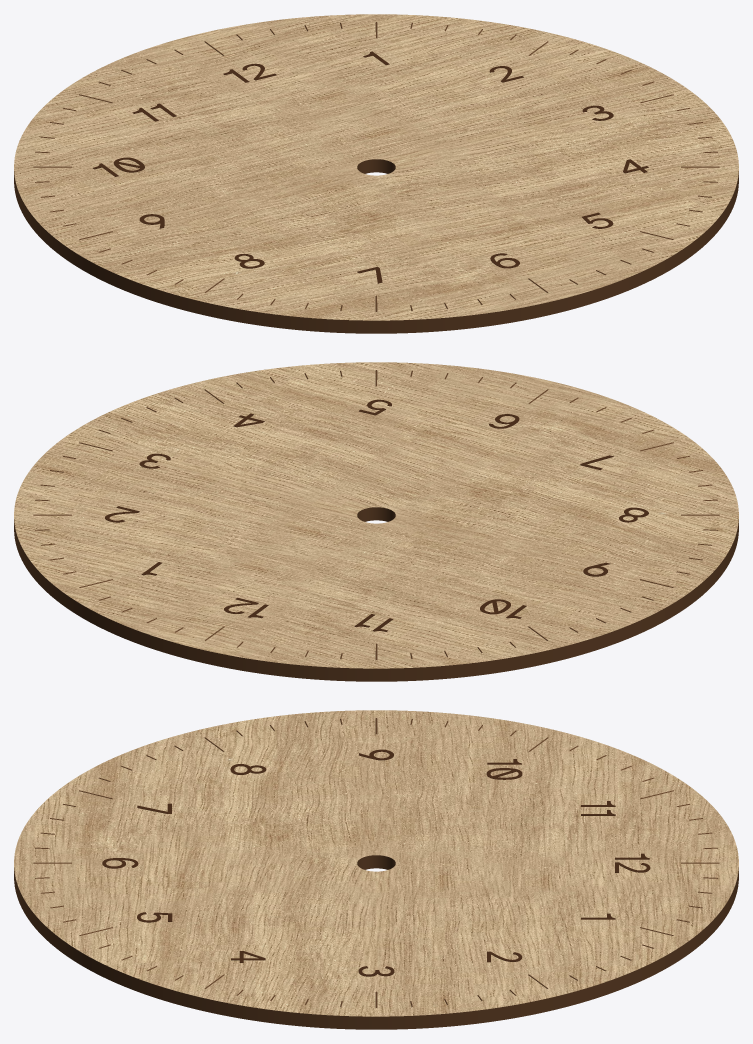
The model's file is clock-face.glb.
The picture shows the model from 3 angles, top to bottom: view 1: azimuth 30°, elevation 25°; view 2: azimuth 150°, elevation 25°; view 3: azimuth 270°, elevation 25°; orthographic projection.
Visible parts, largest first — view 1: body0, engrave0, score0; view 2: body0, engrave0, score0; view 3: body0, engrave0, score0.
Boxes of the visible parts, x1,y1,x2,y2 form: body0: (14, 14, 738, 333); engrave0: (93, 51, 648, 283); score0: (33, 22, 719, 311); body0: (14, 362, 738, 681); engrave0: (105, 399, 648, 631); score0: (33, 370, 719, 659); body0: (14, 710, 738, 1029); engrave0: (102, 749, 650, 976); score0: (33, 718, 719, 1007).
Size of the model in its own units: 0.15 by 0.00312 by 0.15.
Materials: 4 (1 with a texture image).
